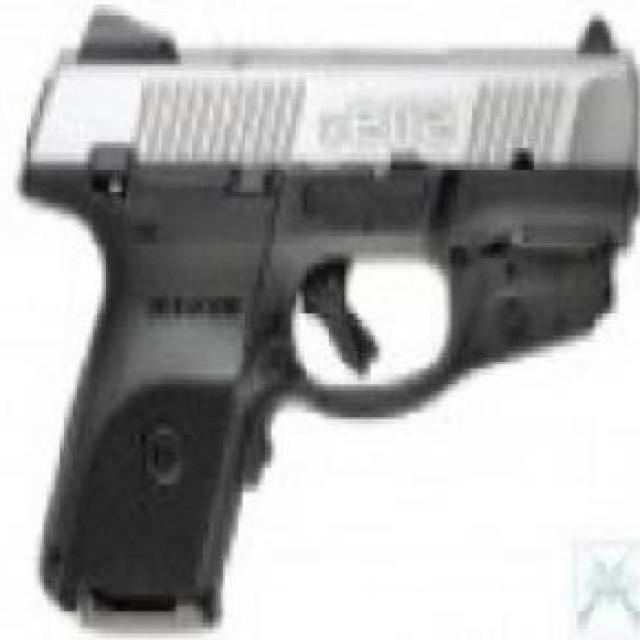pistol: (48, 0, 632, 601)
